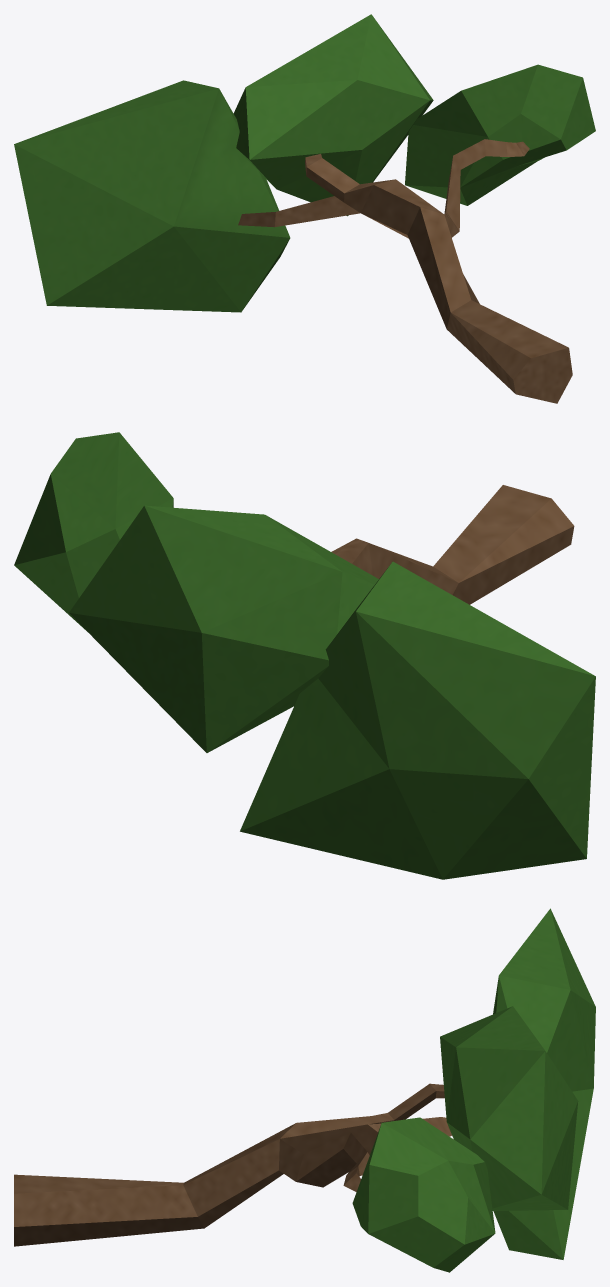
File: all_share_tree_2.FBX
3 views of the same model, one above another, from view 1: azimuth 30°, elevation 25°; view 2: azimuth 150°, elevation 25°; view 3: azimuth 270°, elevation 25° (orthographic). The views are drawn at different scales.
Parts seen in each view (by area): view 1: tree_2; view 2: tree_2; view 3: tree_2.
Boxes of the visible parts, x1=… form: tree_2: x1=14, y1=14, x2=595, y2=403; tree_2: x1=14, y1=432, x2=595, y2=879; tree_2: x1=14, y1=908, x2=595, y2=1272.
Bounding box in the file's own units: 158 × 75.71 × 143.
